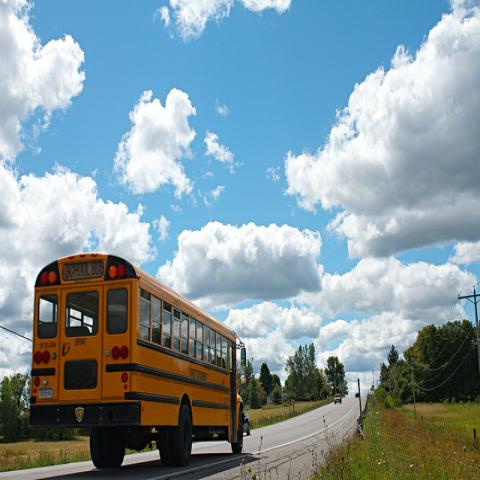bus: (28, 256, 248, 470)
car: (243, 407, 251, 434), (355, 392, 359, 398)
truck: (334, 393, 342, 405)
